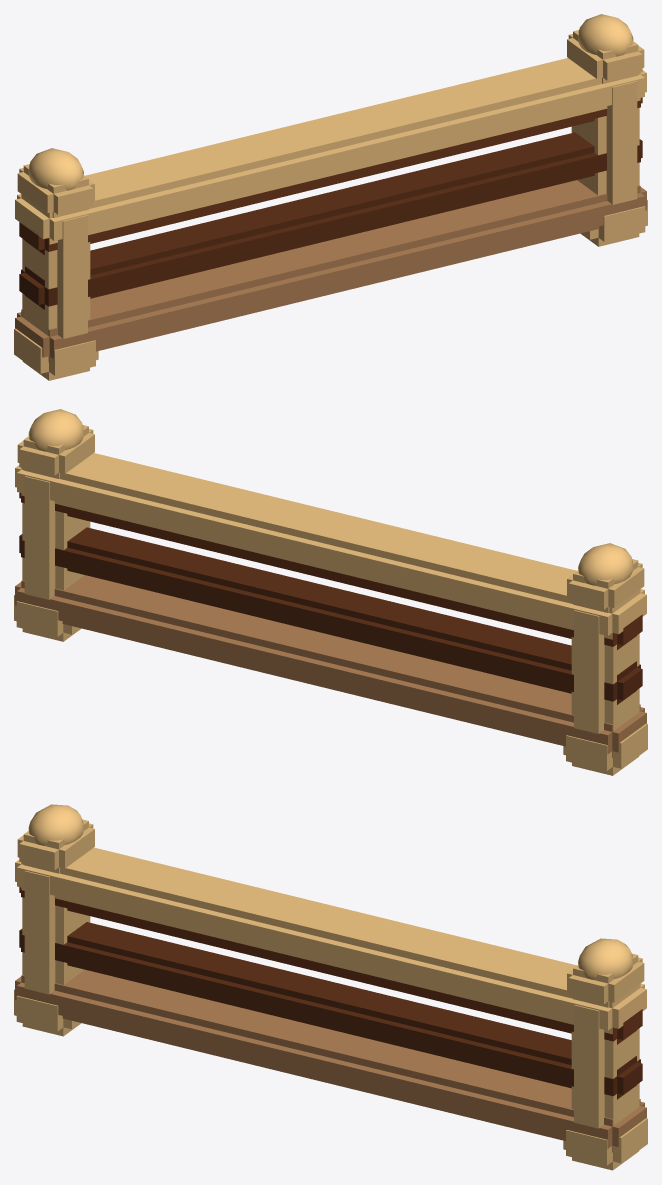
The model's file is village-fence-Bh4zIL8O.glb.
3 views of the same model, one above another, from view 1: azimuth 30°, elevation 25°; view 2: azimuth 150°, elevation 25°; view 3: azimuth 330°, elevation 25° (orthographic).
Visible parts, largest first — view 1: village-fence; view 2: village-fence; view 3: village-fence.
Part boxes in pixels (bbox=[...]): village-fence: bbox=[14, 14, 647, 380]; village-fence: bbox=[14, 409, 647, 775]; village-fence: bbox=[14, 804, 647, 1170].
Size of the model in its own units: 2.55 by 0.86 by 0.28.
